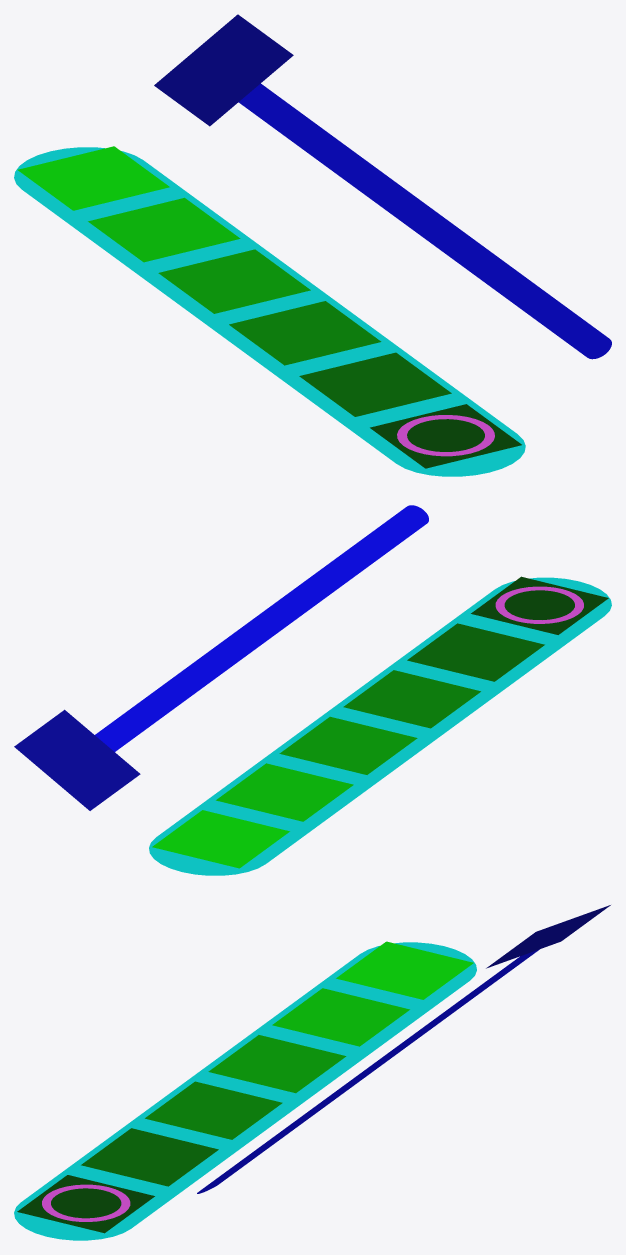
Rendered from M_MarkerMenuPC.fbx.
3 renders of one model, top to bottom at view 1: azimuth 30°, elevation 25°; view 2: azimuth 150°, elevation 25°; view 3: azimuth 330°, elevation 25°, orthographic. The views are drawn at different scales.
Parts seen in each view (by area): view 1: Marker Menu; view 2: Marker Menu; view 3: Marker Menu.
Part boxes in pixels (x1,y1,x2,y2): Marker Menu: (14, 14, 611, 476); Marker Menu: (14, 505, 611, 875); Marker Menu: (14, 905, 610, 1240).
Size of the model in its own units: 1.81 by 0.6887 by 5.55.
